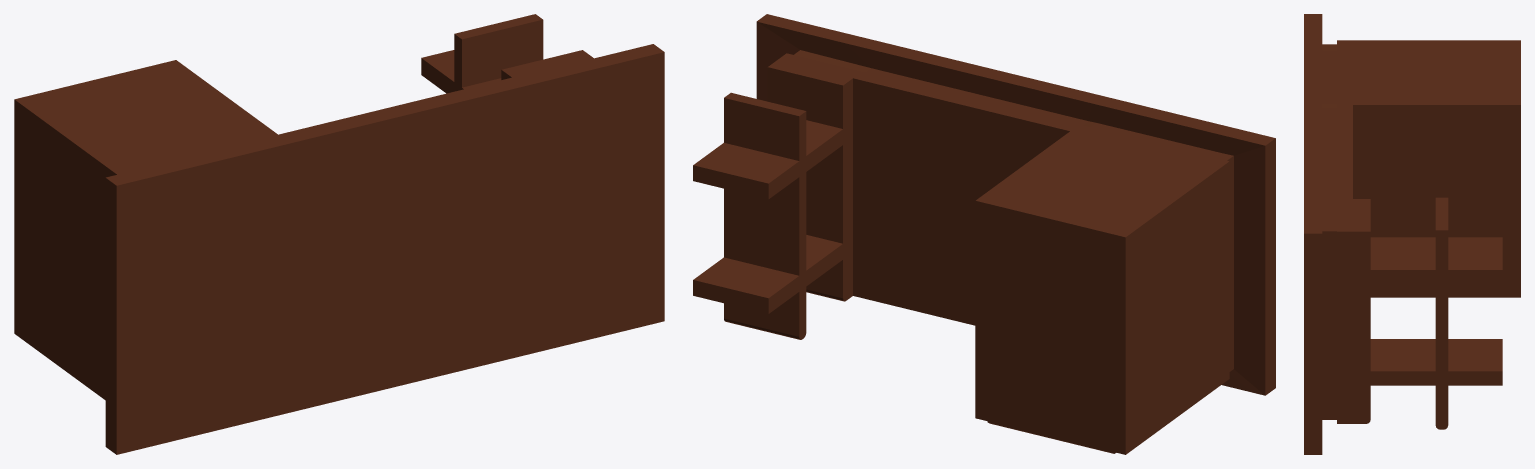
The model's file is Desk.fbx.
3 renders of one model, left to right at view 1: azimuth 30°, elevation 25°; view 2: azimuth 150°, elevation 25°; view 3: azimuth 270°, elevation 25°, orthographic. The views are drawn at different scales.
Visible parts, largest first — view 1: Cube; view 2: Cube; view 3: Cube.
Part boxes in pixels (bbox=[...]): Cube: bbox=[14, 14, 664, 454]; Cube: bbox=[693, 14, 1275, 454]; Cube: bbox=[1304, 14, 1520, 454].
Size of the model in its own units: 1790 by 841 by 747.
